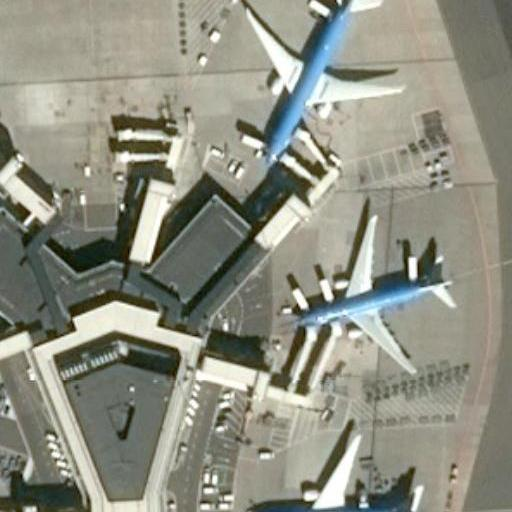Aircraft: (275, 196, 470, 369), (229, 0, 404, 162), (229, 429, 441, 512)
